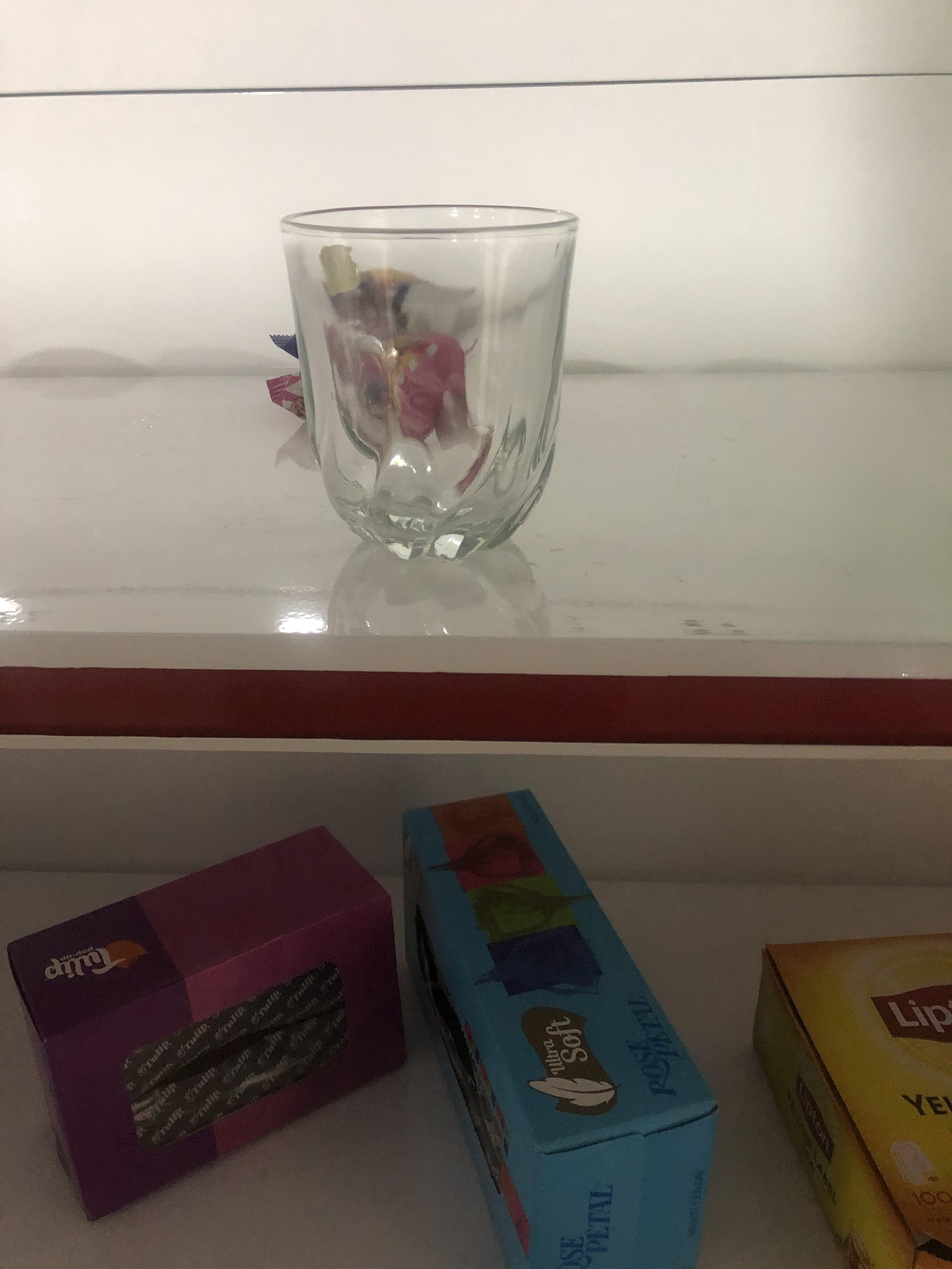glass-normal: (274, 190, 589, 567)
